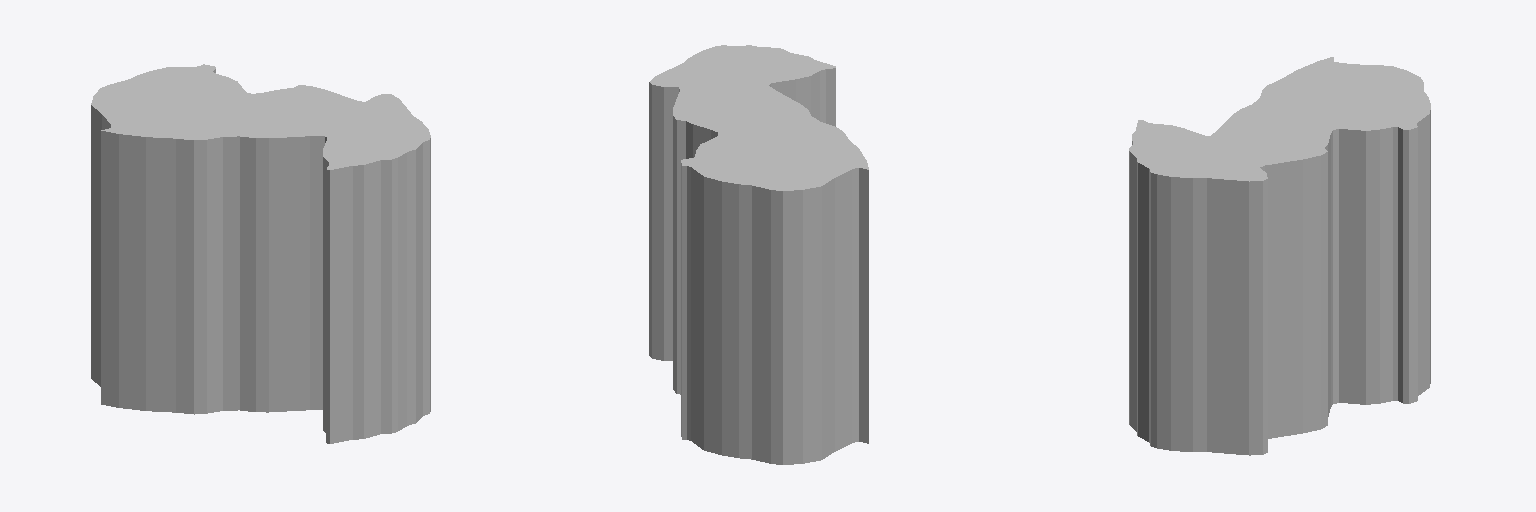
3 renders of one model, left to right at view 1: azimuth 30°, elevation 25°; view 2: azimuth 150°, elevation 25°; view 3: azimuth 270°, elevation 25°, orthographic.
Parts seen in each view (by area): view 1: PY.002_CUCurve.1778; view 2: PY.002_CUCurve.1778; view 3: PY.002_CUCurve.1778.
Boxes of the visible parts, x1,y1,x2,y2 form: PY.002_CUCurve.1778: [91, 64, 430, 443]; PY.002_CUCurve.1778: [649, 45, 868, 464]; PY.002_CUCurve.1778: [1129, 57, 1430, 455].
Bounding box in the file's own units: 0.0489 × 0.05 × 0.05.